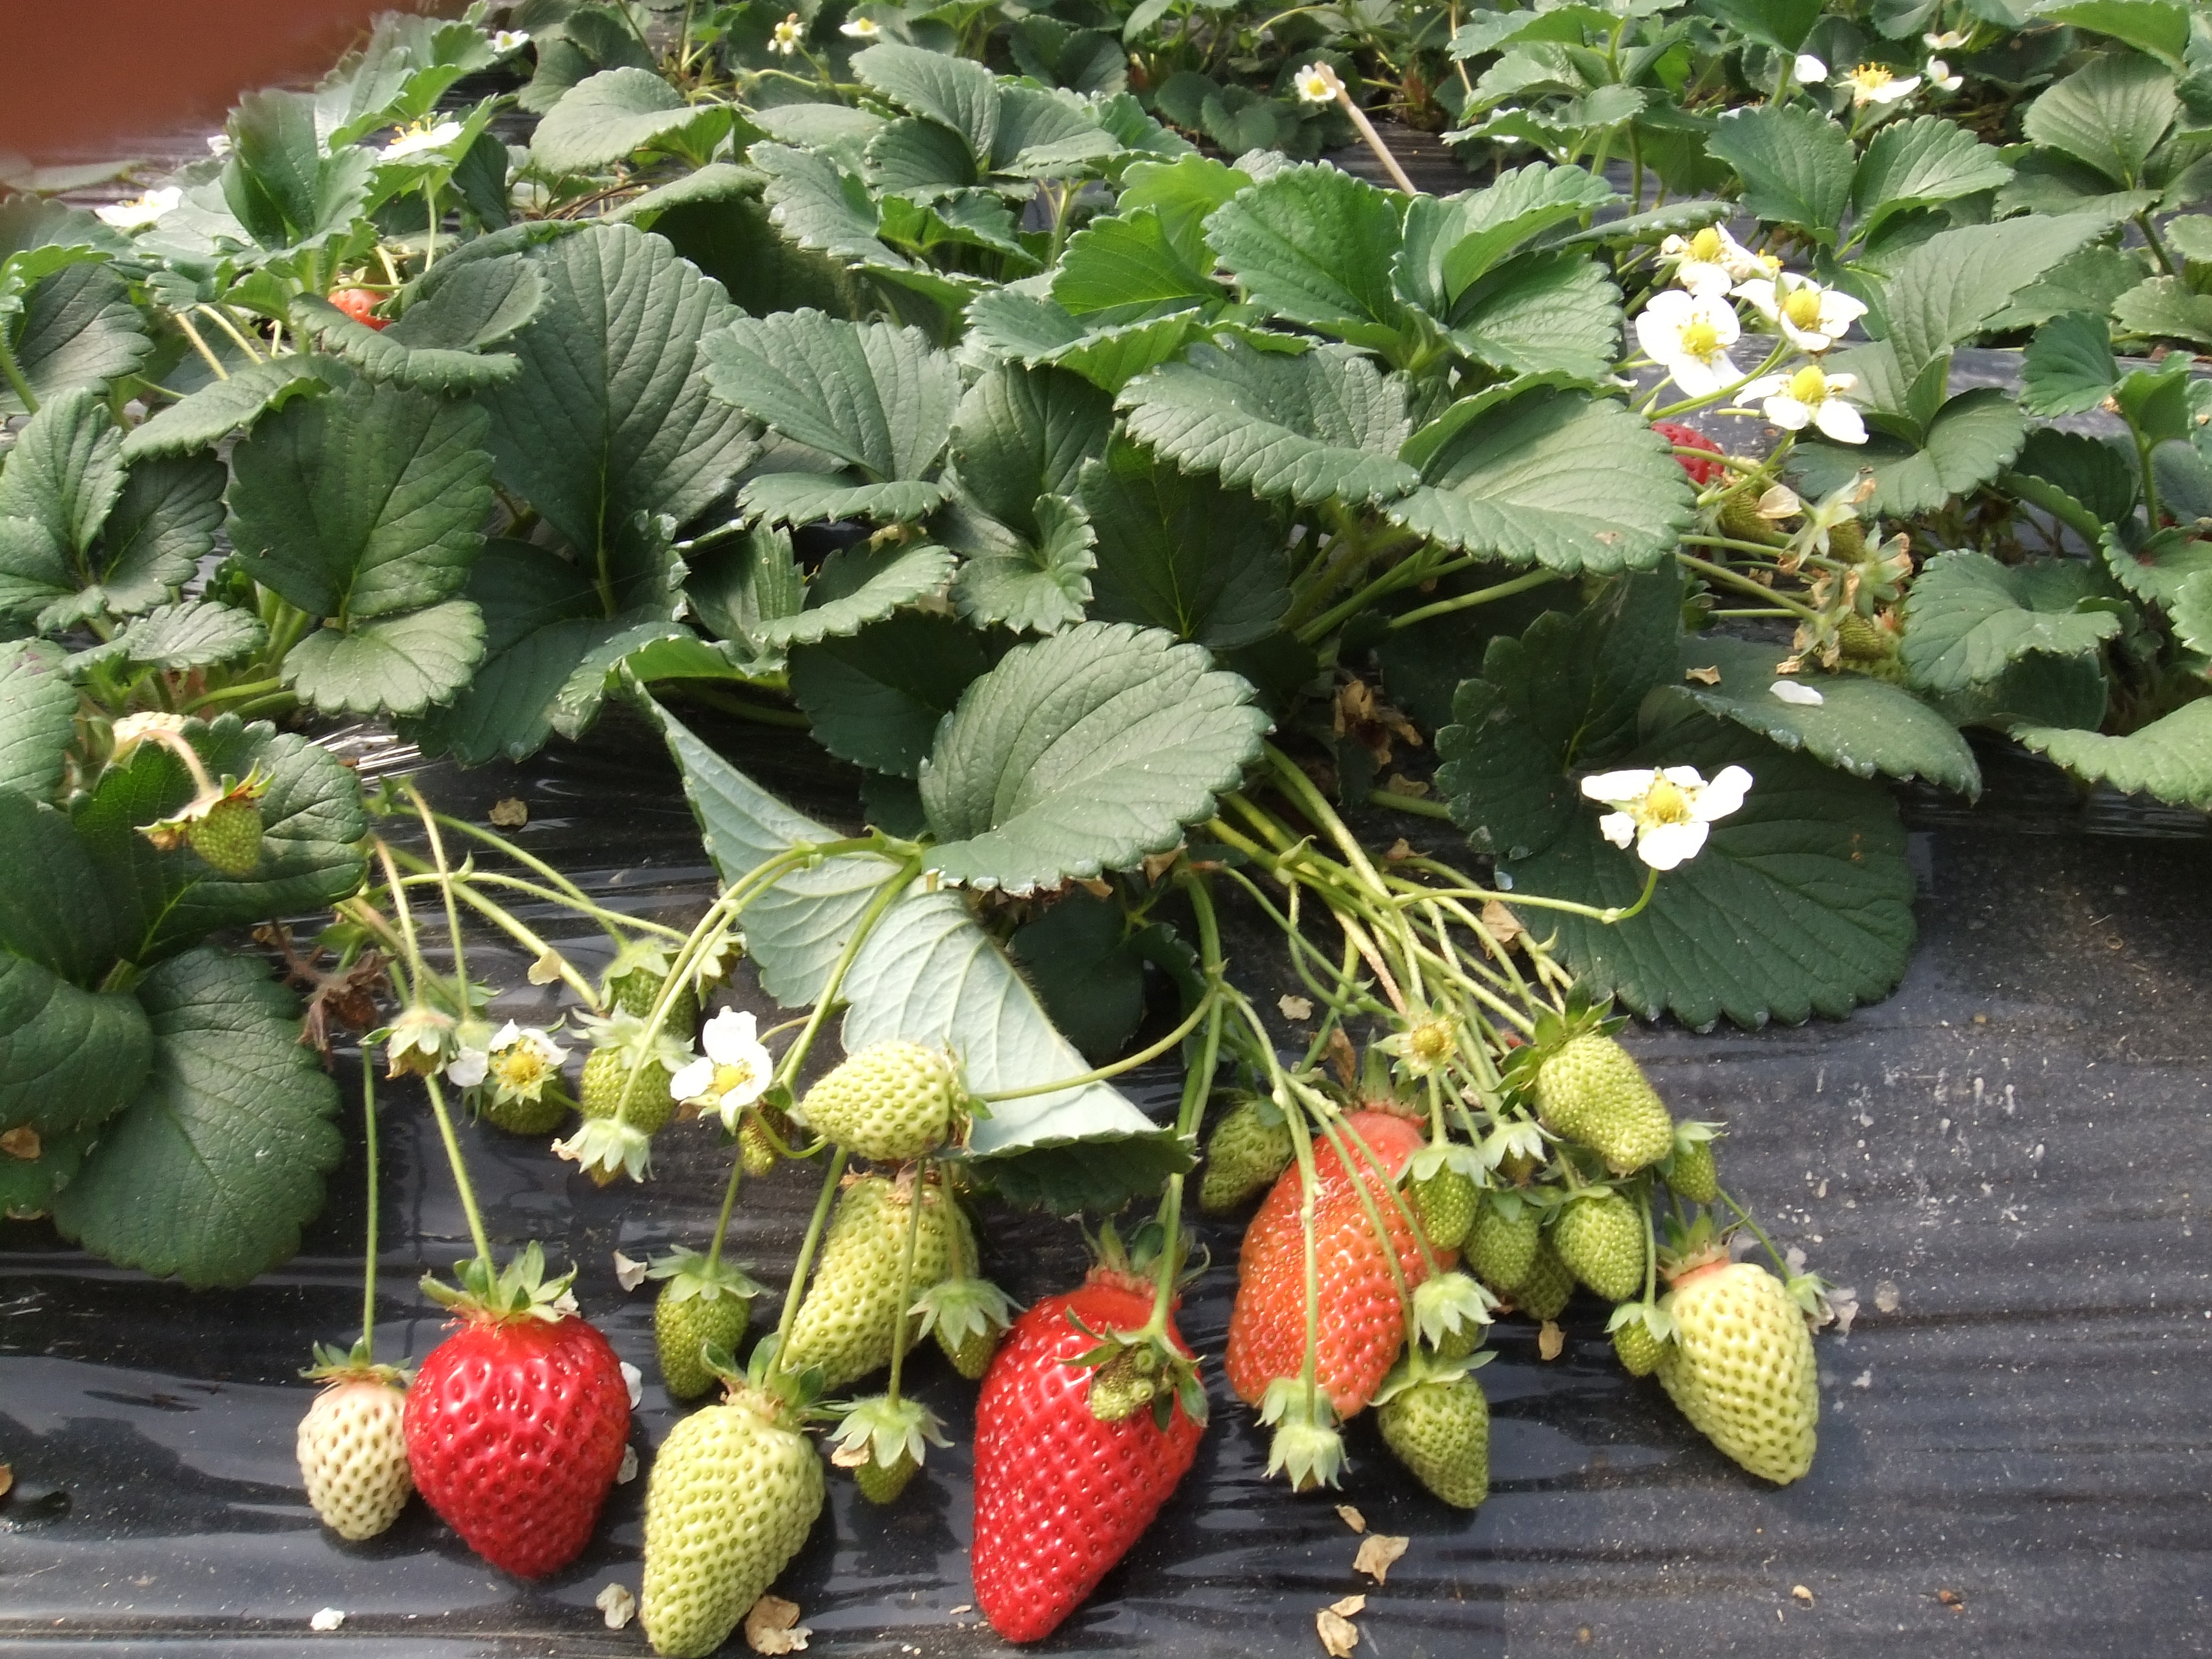StrawberryCone: (968, 1262, 1204, 1645), (395, 1286, 631, 1591)
StrawberryIrremovable: (1224, 1096, 1451, 1419), (639, 1403, 827, 1652), (773, 1169, 975, 1380), (1646, 1256, 1827, 1483), (287, 1361, 418, 1546), (1526, 1023, 1676, 1173), (791, 1040, 968, 1157), (1374, 1370, 1510, 1516), (650, 1256, 752, 1403), (160, 772, 280, 894), (1191, 1087, 1298, 1209), (834, 1394, 942, 1511), (578, 1026, 678, 1148), (1552, 1190, 1653, 1295), (465, 1040, 570, 1140), (599, 929, 693, 1032), (1411, 1145, 1487, 1253), (1465, 1192, 1545, 1291), (927, 1281, 1003, 1377), (1815, 592, 1897, 671), (719, 1093, 796, 1176), (1702, 488, 1784, 551), (1667, 1124, 1723, 1209), (1609, 1297, 1667, 1371), (1815, 504, 1876, 565)
StrawberryOther: (1625, 390, 1752, 509), (296, 247, 420, 354)
StrawberryRemovable: (974, 1263, 1200, 1645), (401, 1295, 631, 1584), (1632, 394, 1750, 504), (301, 249, 413, 349)
